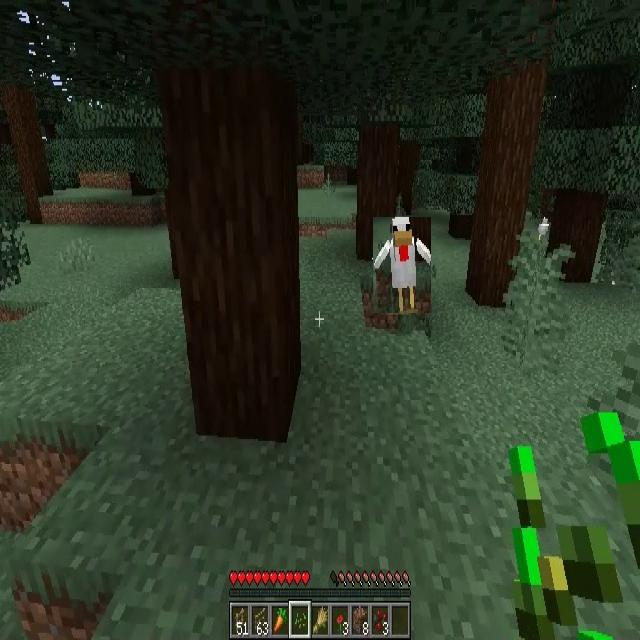duck: (373, 217, 431, 313)
